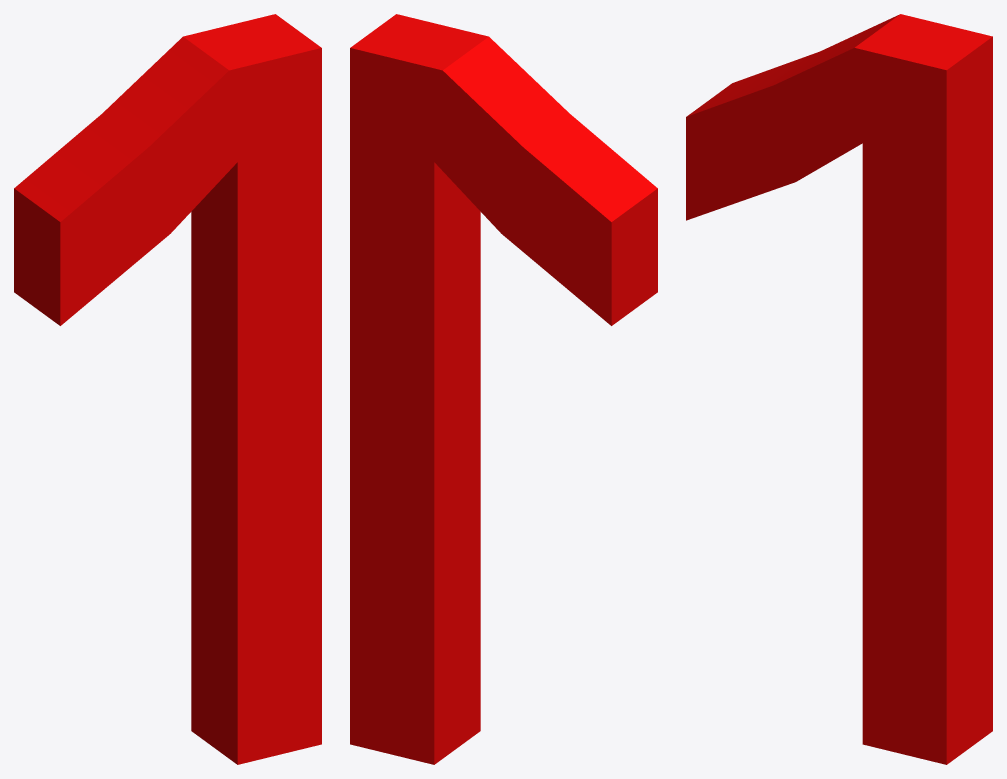
File: original-66.obj
3 views of the same model, side by side, from view 1: azimuth 30°, elevation 25°; view 2: azimuth 150°, elevation 25°; view 3: azimuth 330°, elevation 25° (orthographic).
Visible parts, largest first — view 1: mesh155/mesh155-geometry#mesh155-geometry; view 2: mesh155/mesh155-geometry#mesh155-geometry; view 3: mesh155/mesh155-geometry#mesh155-geometry.
Part boxes in pixels (x1,y1,x2,y2): mesh155/mesh155-geometry#mesh155-geometry: (14,14,321,764); mesh155/mesh155-geometry#mesh155-geometry: (350,14,657,764); mesh155/mesh155-geometry#mesh155-geometry: (686,14,992,764).
Size of the model in its own units: 0.00501 by 0.0128 by 0.00154.
